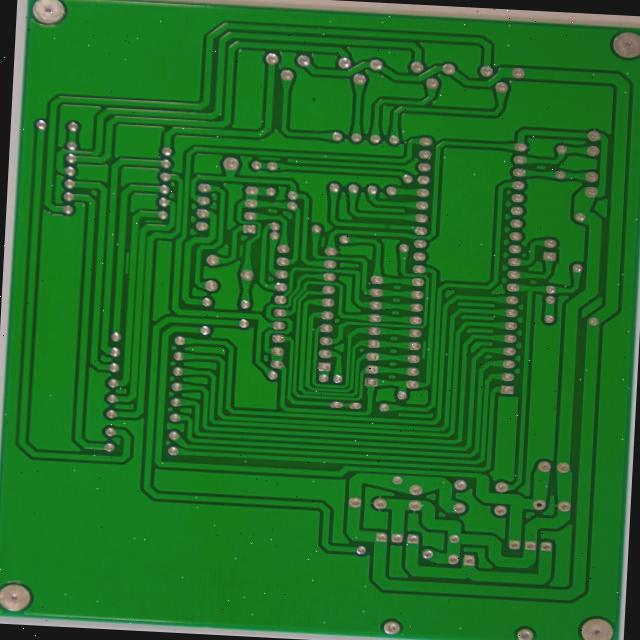spurious_copper: (120, 250, 133, 278), (254, 153, 283, 163), (416, 339, 429, 361), (232, 242, 245, 259), (317, 235, 328, 248)
